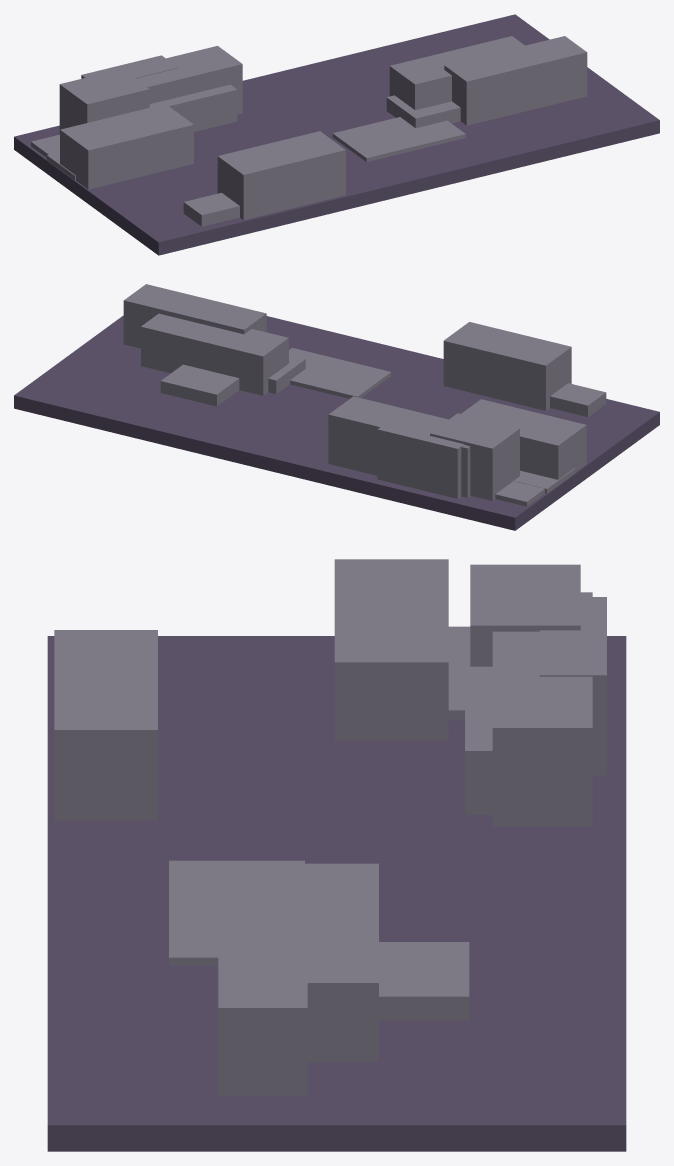
Rendered from planter-rubble.glb.
3 renders of one model, top to bottom at view 1: azimuth 30°, elevation 25°; view 2: azimuth 150°, elevation 25°; view 3: azimuth 270°, elevation 25°, orthographic. The views are drawn at different scales.
Visible parts, largest first — view 1: rough-ground, fragment-12, fragment-13, fragment-11, fragment-9, fragment-1, fragment-7, fragment-3, fragment-2, fragment-5, fragment-4, fragment-0 (+1 smaller); view 2: rough-ground, fragment-13, fragment-1, fragment-0, fragment-11, fragment-7, fragment-12, fragment-9, fragment-3, fragment-8, fragment-4, fragment-6 (+2 smaller); view 3: rough-ground, fragment-11, fragment-13, fragment-12, fragment-7, fragment-1, fragment-9, fragment-3, fragment-8, fragment-0, fragment-2, fragment-10.
Part boxes in pixels (box(x1,y1,x2,y2)): rough-ground: box(14, 14, 659, 255); fragment-12: box(444, 36, 587, 125); fragment-13: box(217, 131, 345, 219); fragment-11: box(60, 104, 193, 189); fragment-9: box(59, 69, 149, 134); fragment-1: box(389, 36, 524, 110); fragment-7: box(136, 46, 242, 114); fragment-3: box(332, 117, 465, 161); fragment-2: box(149, 84, 237, 131); fragment-5: box(386, 95, 460, 127); fragment-4: box(183, 192, 239, 226); fragment-0: box(81, 55, 178, 78); rough-ground: box(14, 315, 659, 530); fragment-13: box(443, 322, 571, 410); fragment-1: box(141, 313, 288, 395); fragment-0: box(377, 417, 464, 498); fragment-11: box(461, 399, 586, 479); fragment-7: box(328, 396, 470, 497); fragment-12: box(123, 284, 266, 348); fragment-9: box(430, 413, 519, 500); fragment-3: box(289, 347, 391, 398); fragment-8: box(160, 364, 239, 406); fragment-4: box(550, 383, 606, 416); fragment-6: box(495, 481, 544, 506); rough-ground: box(47, 636, 626, 1151); fragment-11: box(334, 559, 448, 740); fragment-13: box(54, 630, 157, 820); fragment-12: box(218, 890, 307, 1095); fragment-7: box(492, 592, 592, 826); fragment-1: box(277, 863, 378, 1061); fragment-9: box(470, 564, 580, 666); fragment-3: box(169, 860, 304, 965); fragment-8: box(379, 942, 469, 1020); fragment-0: box(539, 597, 606, 775); fragment-2: box(465, 647, 492, 814); fragment-10: box(448, 626, 470, 720).
Bounding box in the file's own units: 2.4 × 0.3 × 1.2.
